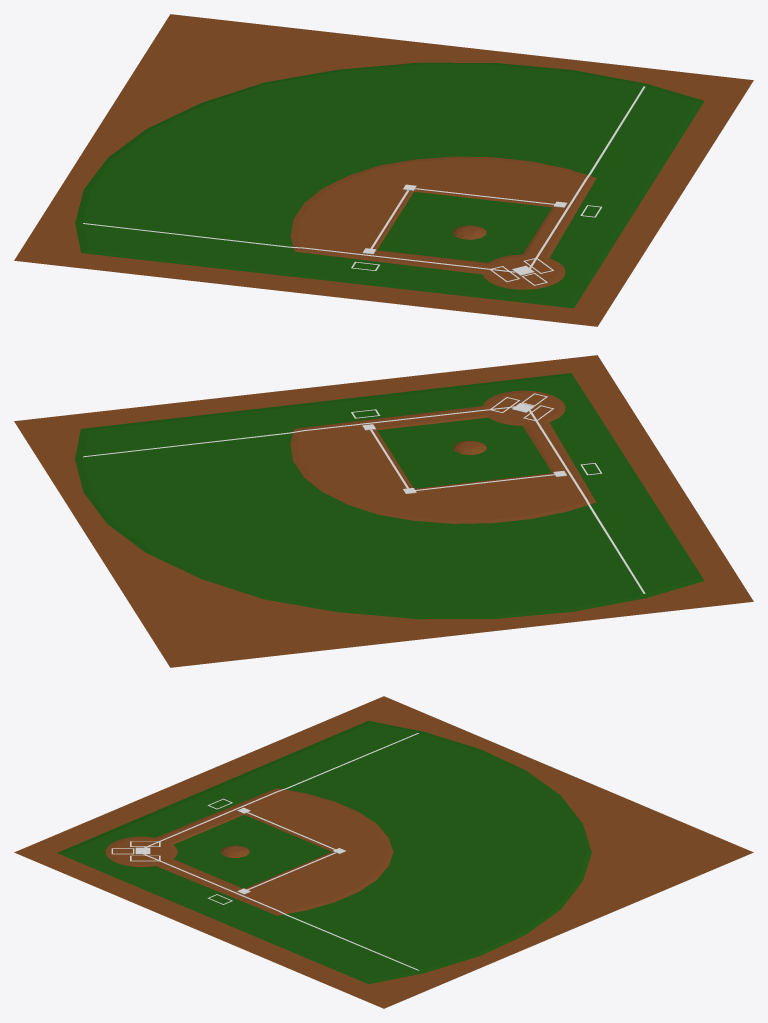
File: Baseball_Field.obj
3 renders of one model, top to bottom at view 1: azimuth 30°, elevation 25°; view 2: azimuth 150°, elevation 25°; view 3: azimuth 270°, elevation 25°, orthographic. The views are drawn at different scales.
Parts seen in each view (by area): view 1: Field, White_Lines; view 2: Field, White_Lines; view 3: Field, White_Lines.
Boxes of the visible parts, box(x1,y1,x2,y2) form: Field: box(14, 14, 753, 326); White_Lines: box(83, 86, 645, 285); Field: box(14, 355, 753, 667); White_Lines: box(83, 393, 645, 593); Field: box(14, 696, 753, 1008); White_Lines: box(111, 733, 419, 970).
Bounding box in the file's own units: 29.6 × 0.1595 × 29.6.
